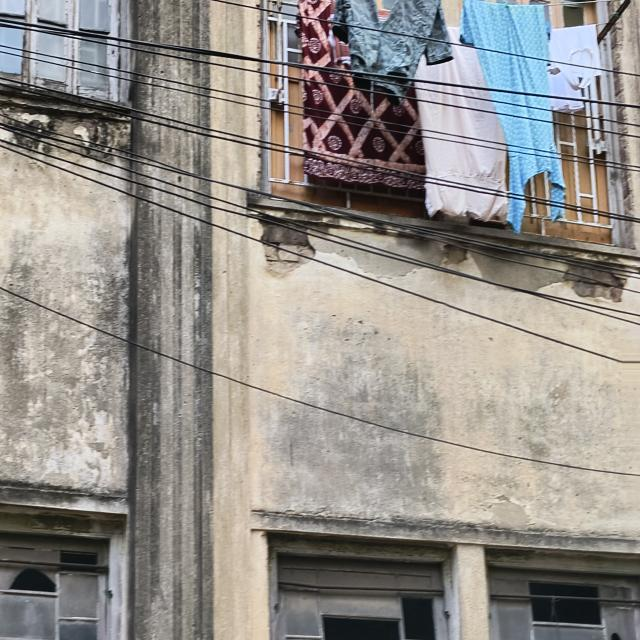stain_mould: (132, 2, 217, 639)
